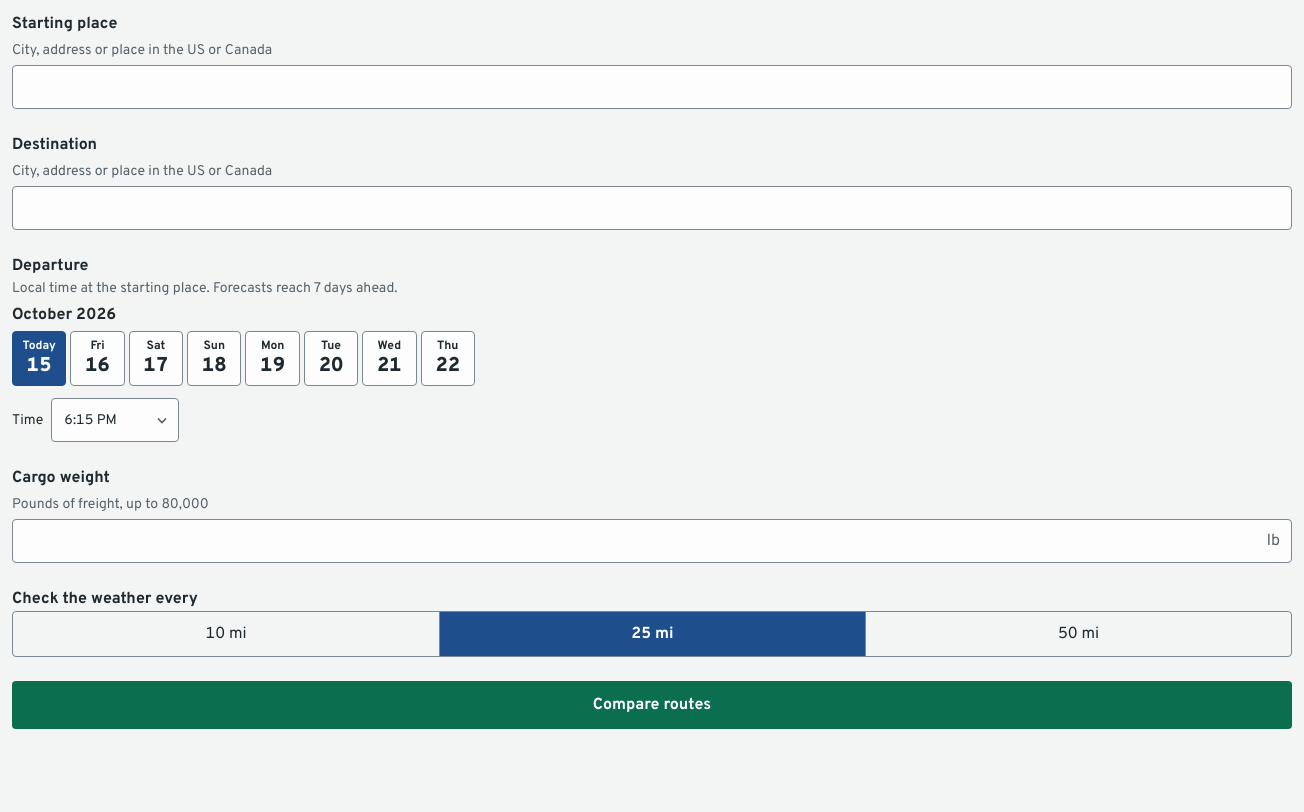
Test: PlanForm › keeps a departure the driver chose when the starting place changes
Click the radio button with aria-label "Friday, October 16": [98, 359] box [70,331,125,386]
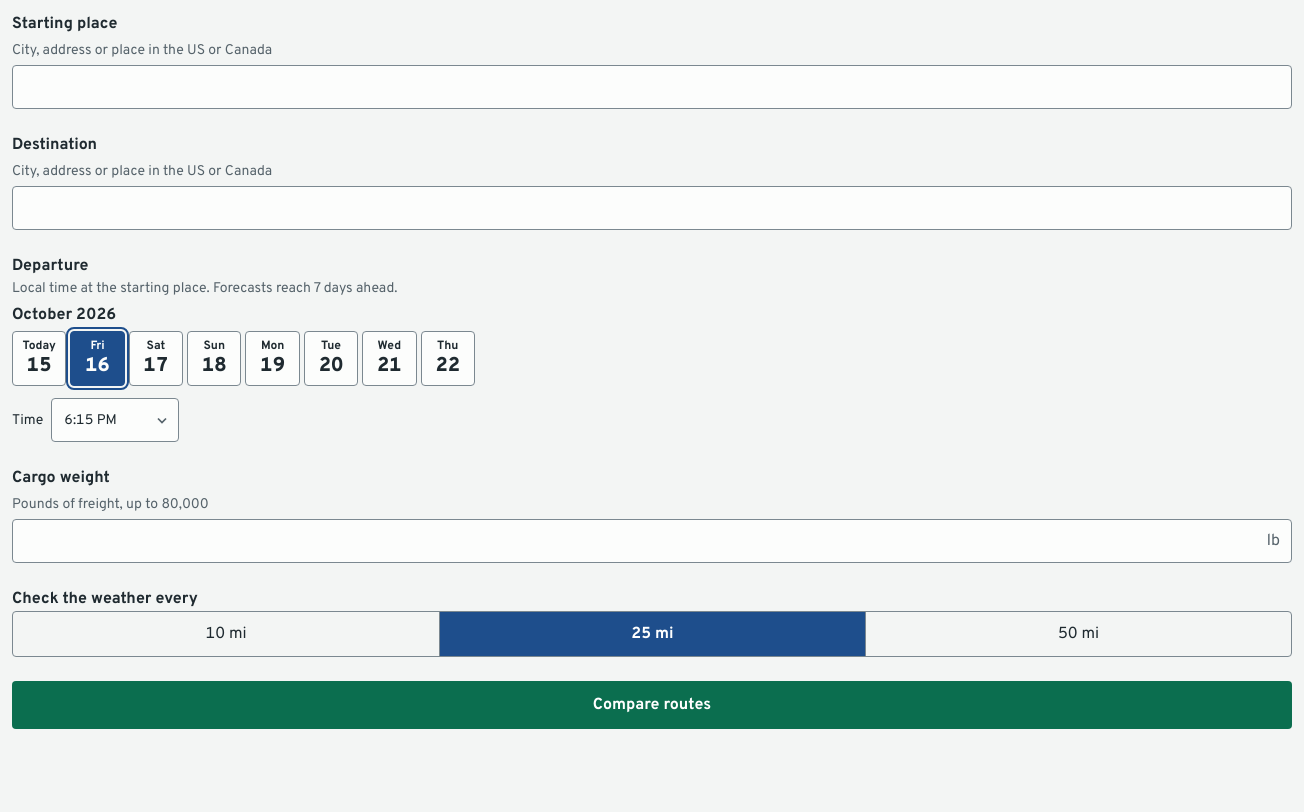
Replace the text in the dropdown labelled "Time" with "6:30 am": [115, 420] box [51,398,179,442]
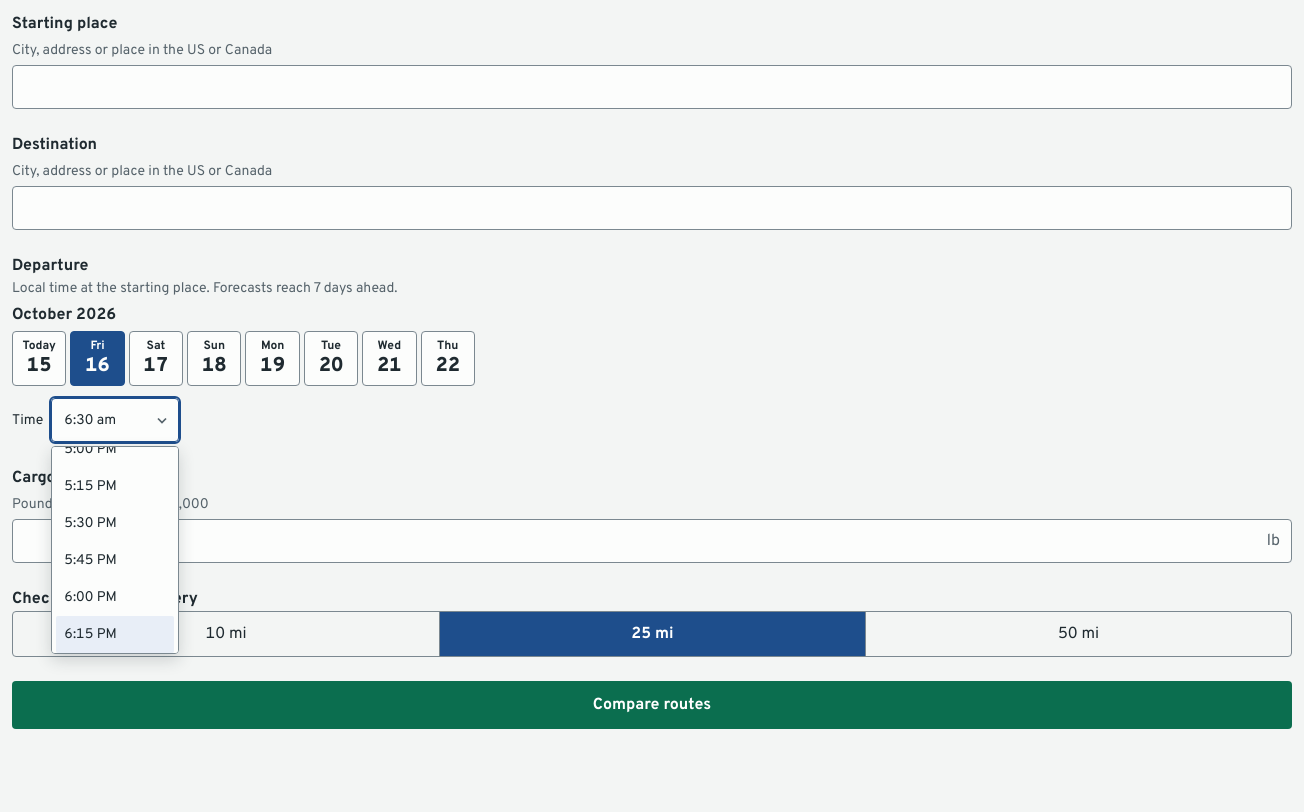
In the field labelled "Starting place": [652, 87] box [12,65,1292,109], type "Denver"
Then press Enter
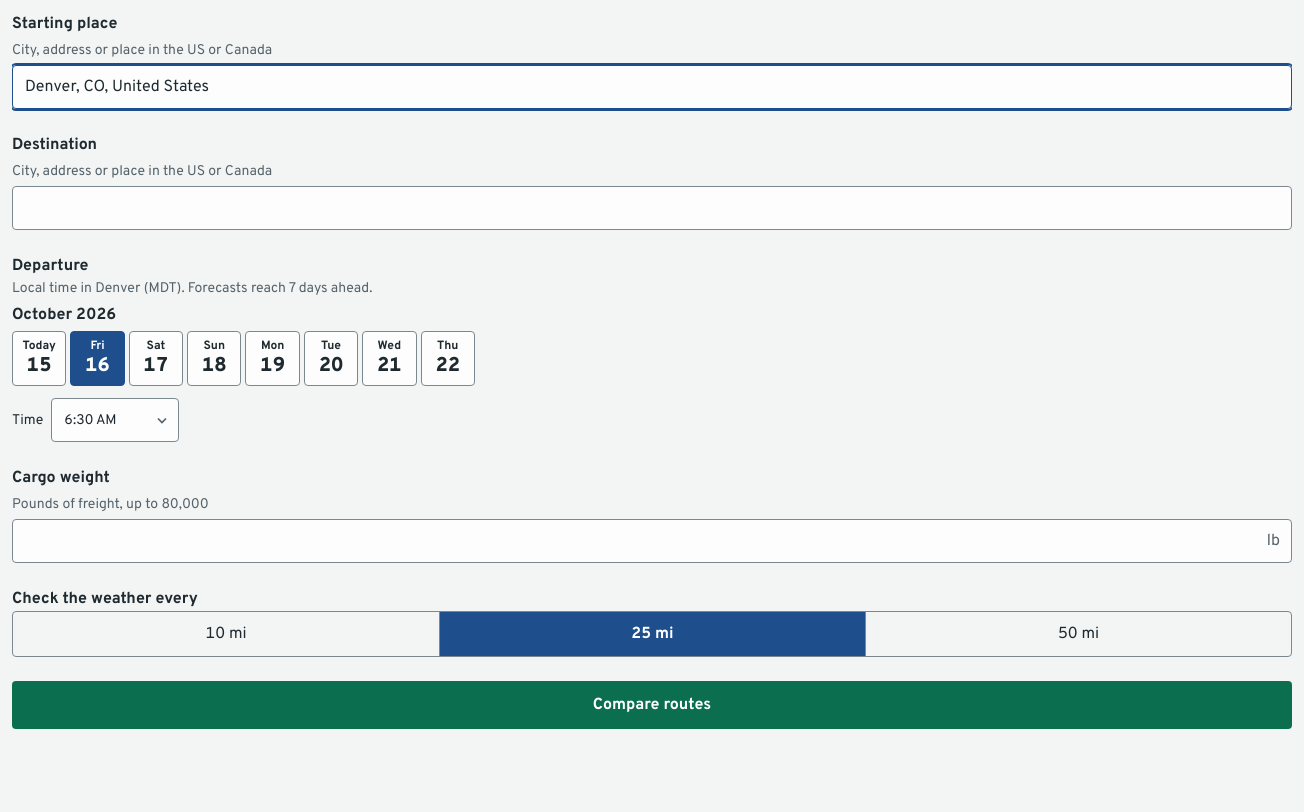
Now the radio button with aria-label "Friday, October 16" is checked, box [70,331,125,386]
Now the field showing "Denver, CO, United States" is shown, box [12,65,1292,109]
